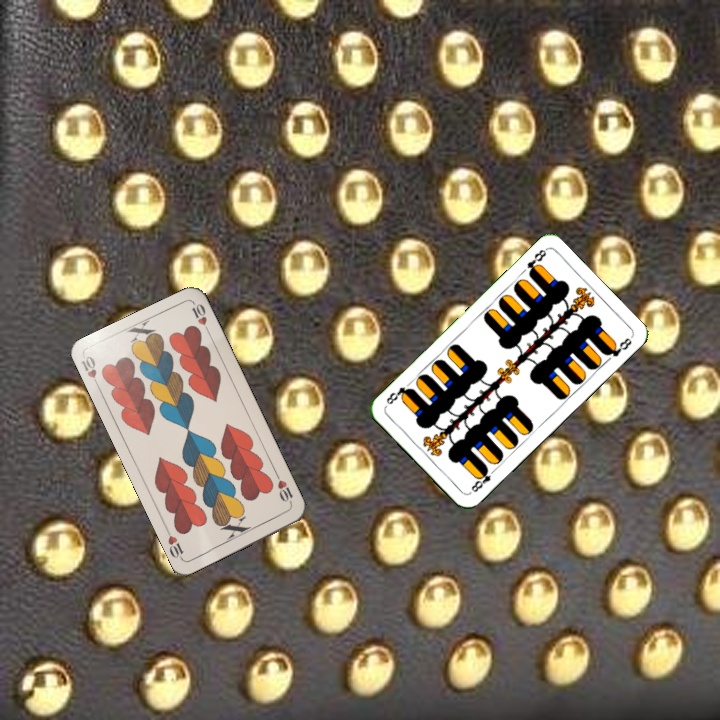E8: (467, 464, 499, 495), (523, 245, 549, 279)
H10: (77, 352, 102, 391), (272, 470, 296, 508)
